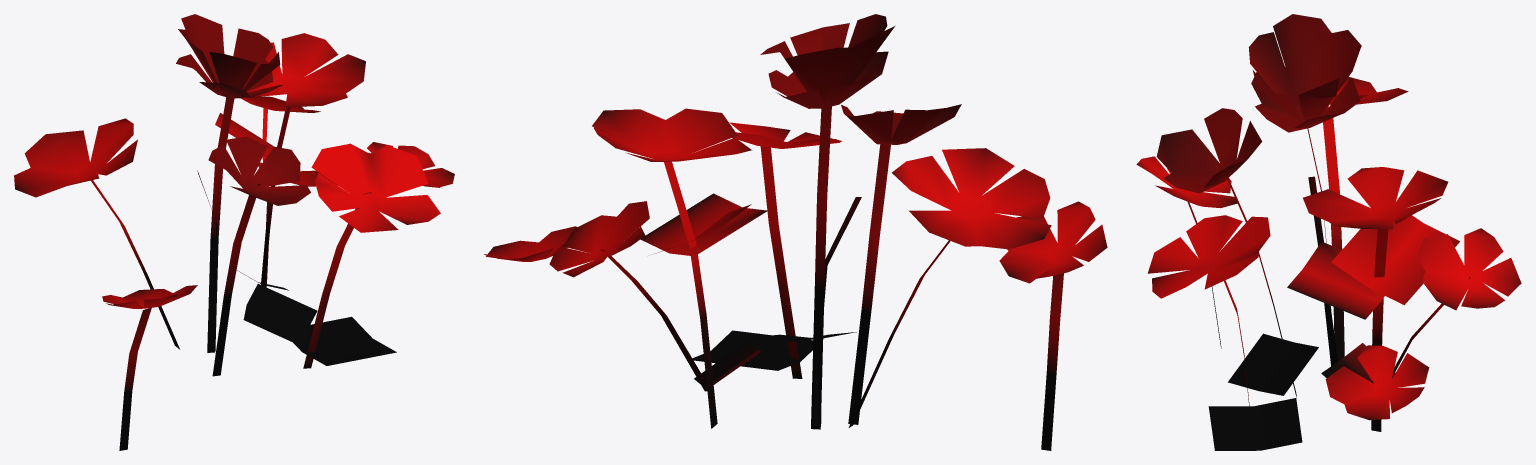
The model's file is SM_Flower_01_c.FBX.
The picture shows the model from 3 angles, left to right: view 1: azimuth 30°, elevation 25°; view 2: azimuth 150°, elevation 25°; view 3: azimuth 270°, elevation 25°; orthographic projection. The views are drawn at different scales.
Visible parts, largest first — view 1: SM_Flower_01_c_LOD0; view 2: SM_Flower_01_c_LOD0; view 3: SM_Flower_01_c_LOD0.
Part boxes in pixels (left/top/right/bottom): SM_Flower_01_c_LOD0: left=14, top=14, right=454, bottom=450; SM_Flower_01_c_LOD0: left=484, top=14, right=1107, bottom=450; SM_Flower_01_c_LOD0: left=1136, top=14, right=1521, bottom=450.
Bounding box in the file's own units: 92.15 × 64.11 × 70.39.
